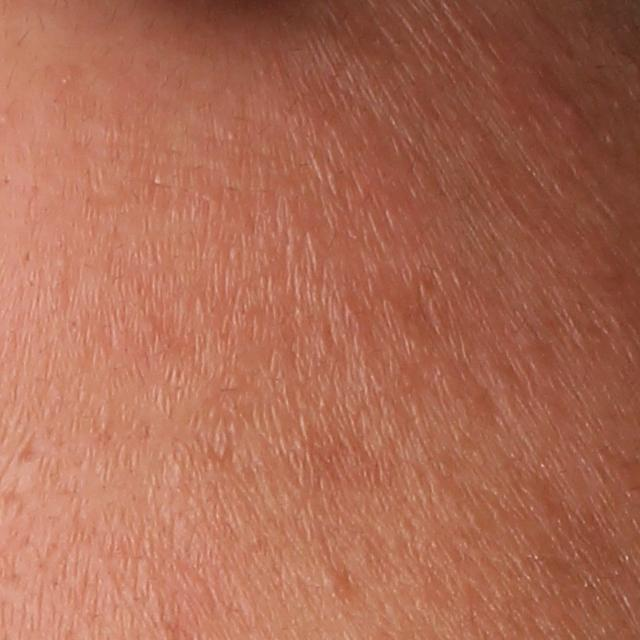atrophic_scar: (20, 431, 51, 462)
comedo: (321, 568, 346, 596)
papule: (550, 93, 587, 128)
